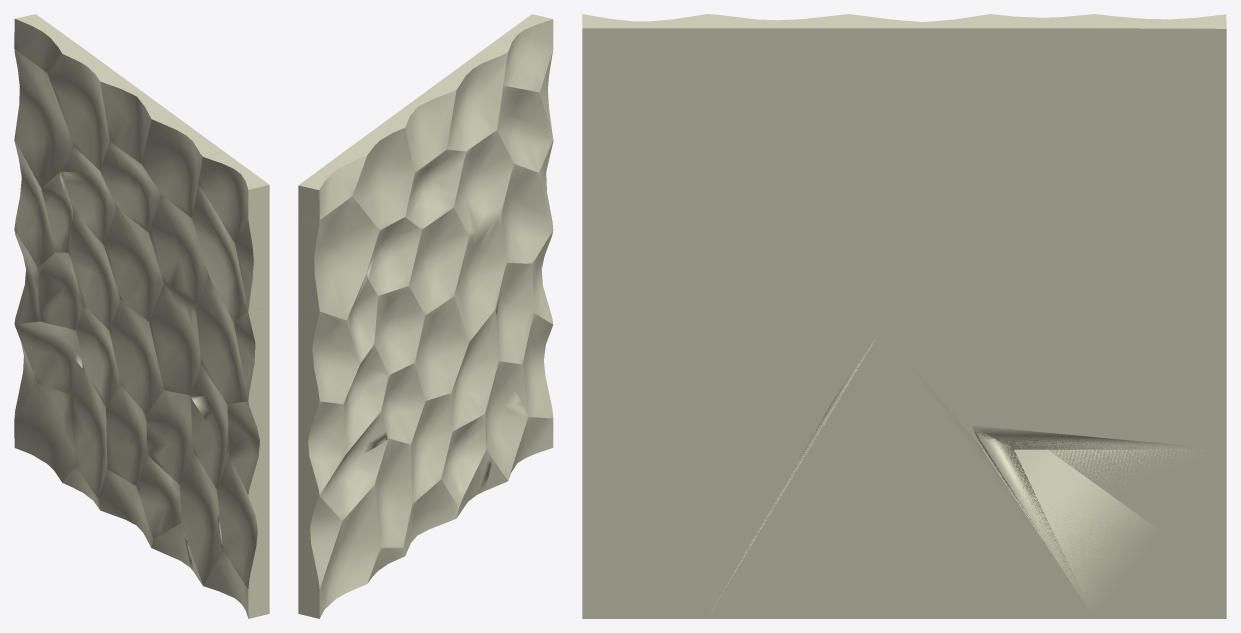
The model's file is wall_art.dae.
The picture shows the model from 3 angles, left to right: view 1: azimuth 30°, elevation 25°; view 2: azimuth 150°, elevation 25°; view 3: azimuth 270°, elevation 25°; orthographic projection. The views are drawn at different scales.
Parts seen in each view (by area): view 1: SketchUp; view 2: SketchUp; view 3: SketchUp.
Part boxes in pixels (x1=…): SketchUp: x1=14, y1=14, x2=269, y2=618; SketchUp: x1=298, y1=14, x2=553, y2=618; SketchUp: x1=582, y1=14, x2=1226, y2=618.
Bounding box in the file's own units: 42.36 × 787 × 797.
